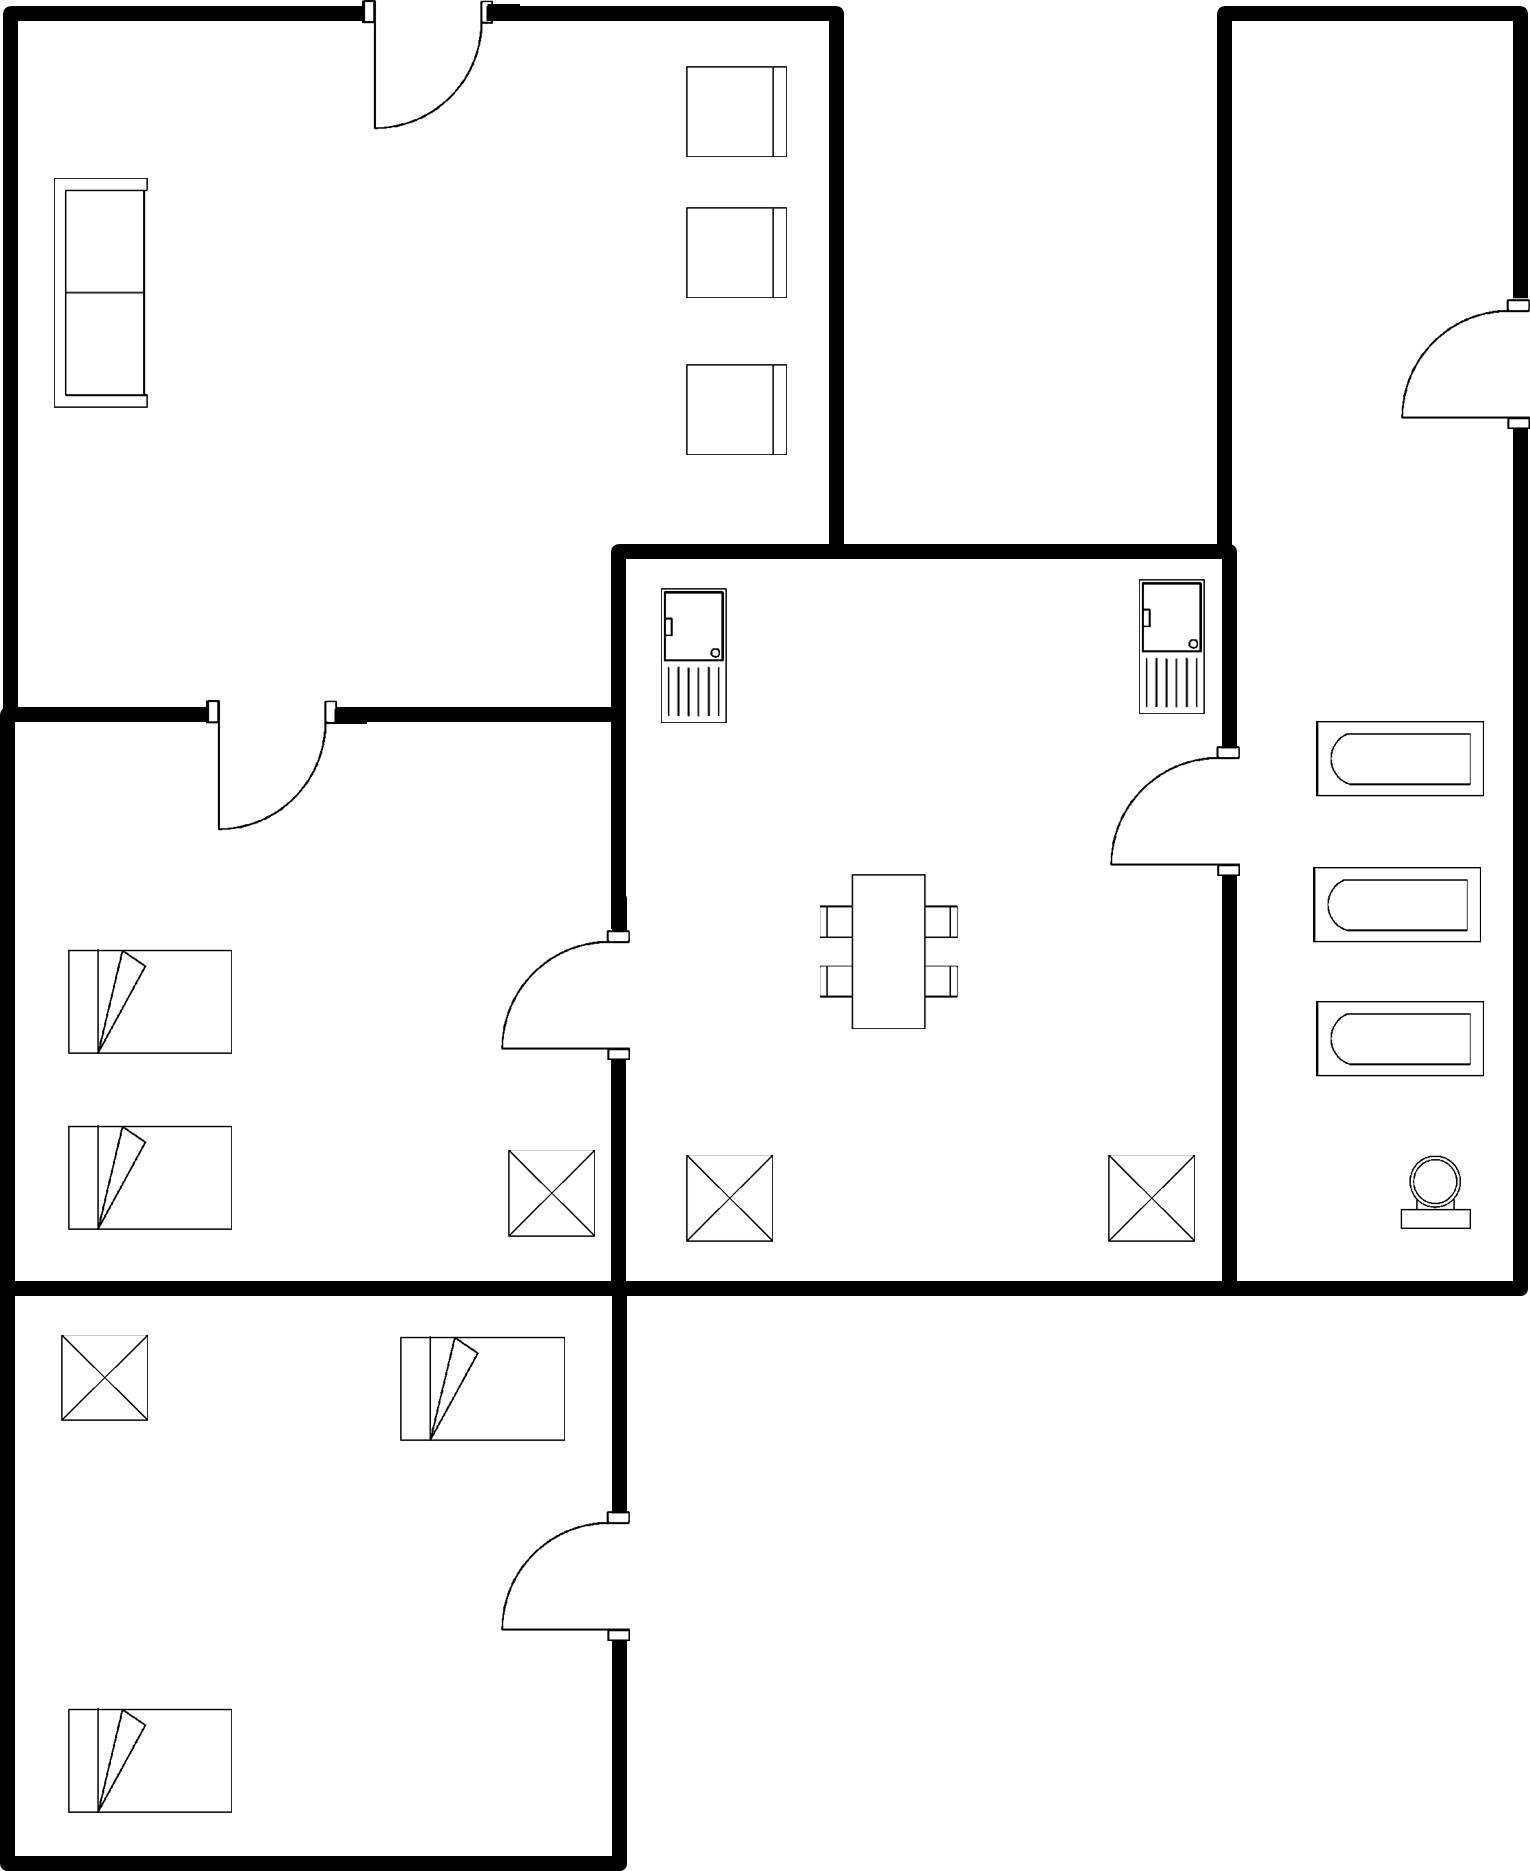bed: (387, 1322, 580, 1459), (56, 1699, 253, 1830), (49, 939, 247, 1066), (56, 1115, 245, 1248), (45, 1322, 162, 1444), (489, 1133, 602, 1253), (675, 1142, 791, 1255)
coffee_table: (1095, 1141, 1216, 1259), (493, 1135, 604, 1246), (671, 1142, 784, 1253), (49, 1324, 165, 1433)
dining_table: (805, 862, 971, 1042)
large_sink: (1380, 1142, 1482, 1239)
large_sofa: (40, 164, 164, 426)
sink: (644, 581, 744, 732), (1125, 564, 1215, 728)
small_sofa: (671, 57, 802, 172), (676, 193, 798, 312), (678, 352, 800, 470)
tub: (1298, 852, 1496, 955), (1305, 990, 1502, 1090), (1304, 710, 1496, 813)
